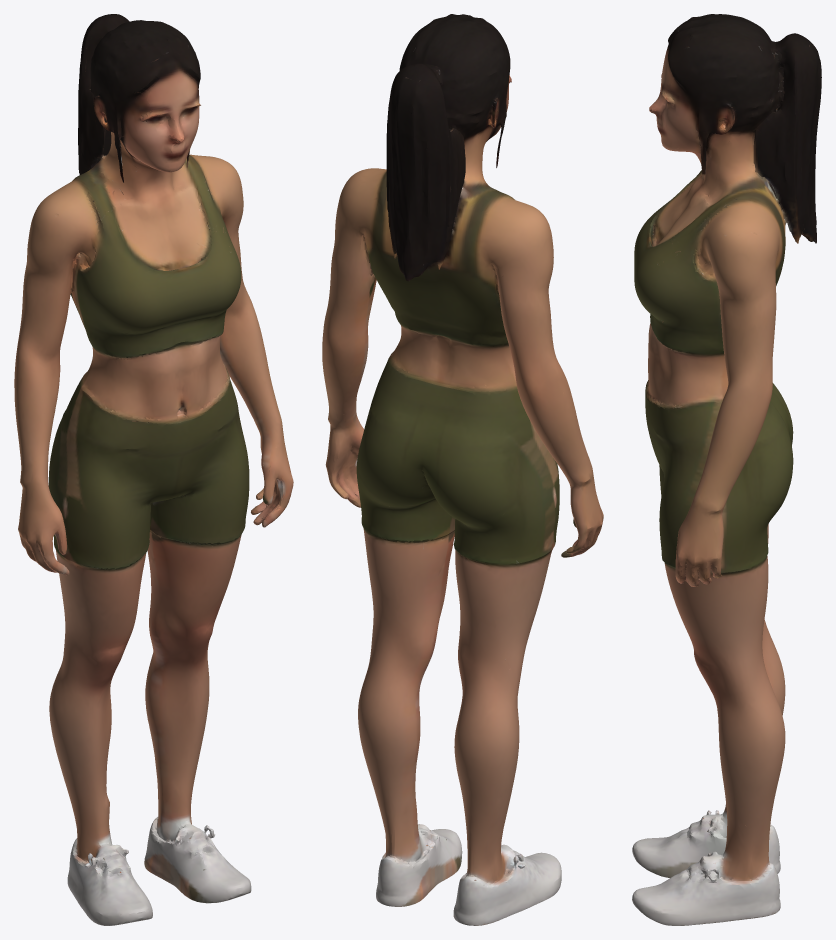
The model's file is pyincc_avatar_primary.glb.
The picture shows the model from 3 angles, left to right: view 1: azimuth 30°, elevation 25°; view 2: azimuth 150°, elevation 25°; view 3: azimuth 270°, elevation 25°; orthographic projection.
Parts seen in each view (by area): view 1: model; view 2: model; view 3: model.
Boxes of the visible parts, x1,y1,x2,y2 form: model: (14, 14, 293, 925); model: (322, 14, 603, 925); model: (632, 14, 821, 925).
Size of the model in its own units: 0.545 by 1.7 by 0.3361.
Materials: 1 (1 with a texture image).
